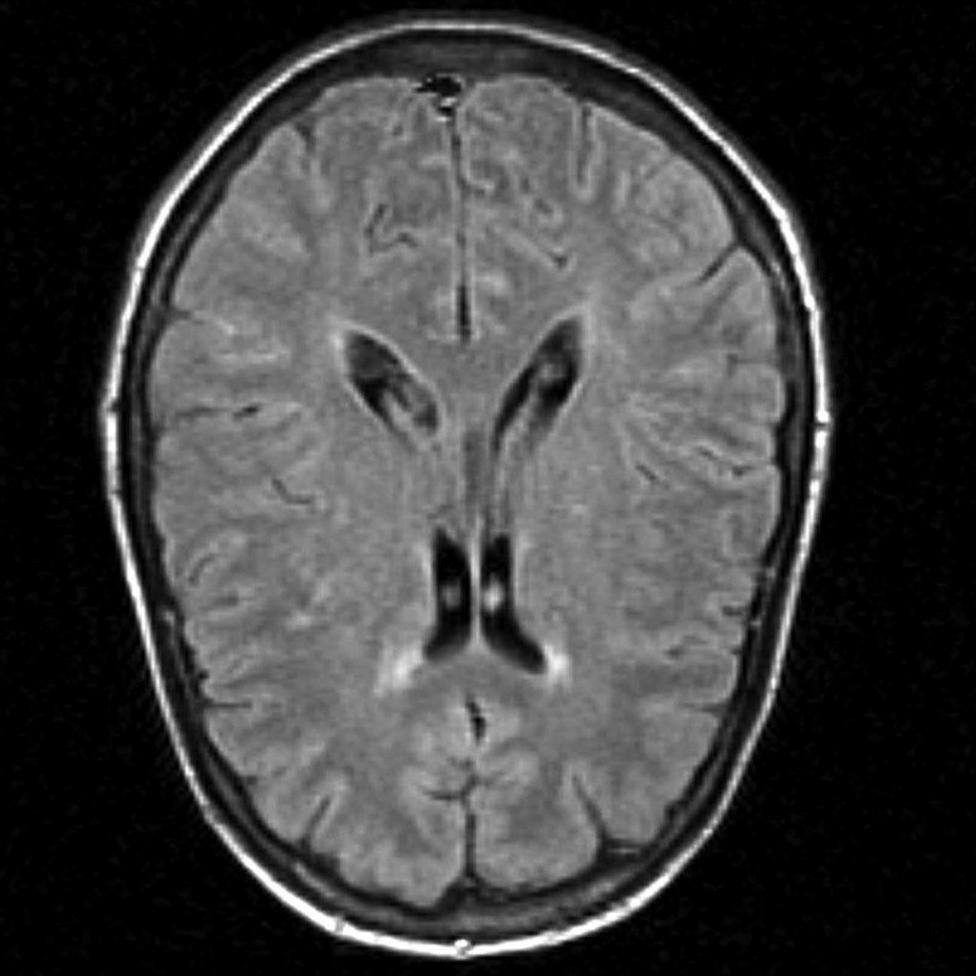Normal_Brain: (1, 1, 976, 976)
